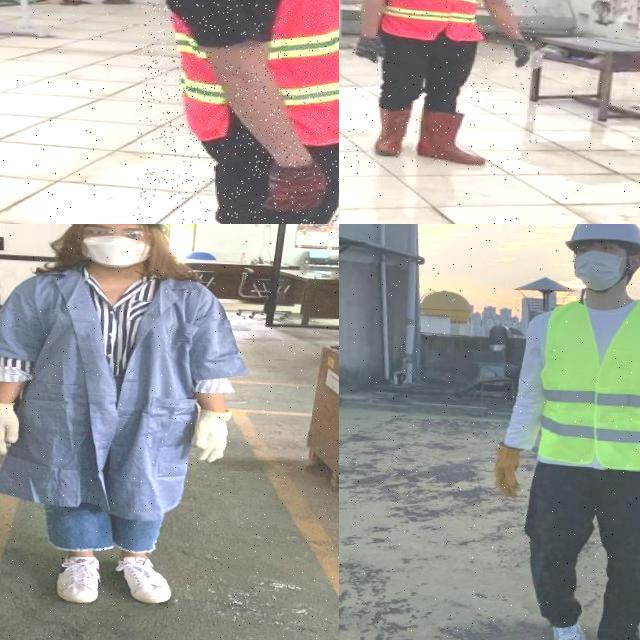boots: (415, 108, 488, 168), (369, 104, 410, 159), (550, 620, 591, 640)
helmet: (563, 224, 640, 255)
vest: (144, 0, 339, 147), (536, 295, 640, 471), (381, 0, 496, 42)
